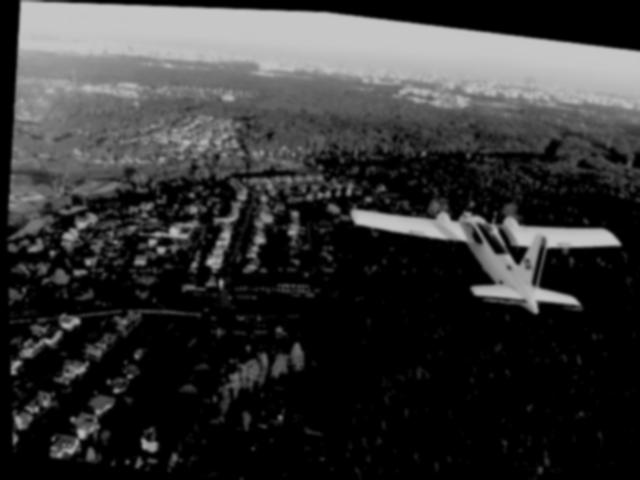hedef: (329, 169, 640, 328)
